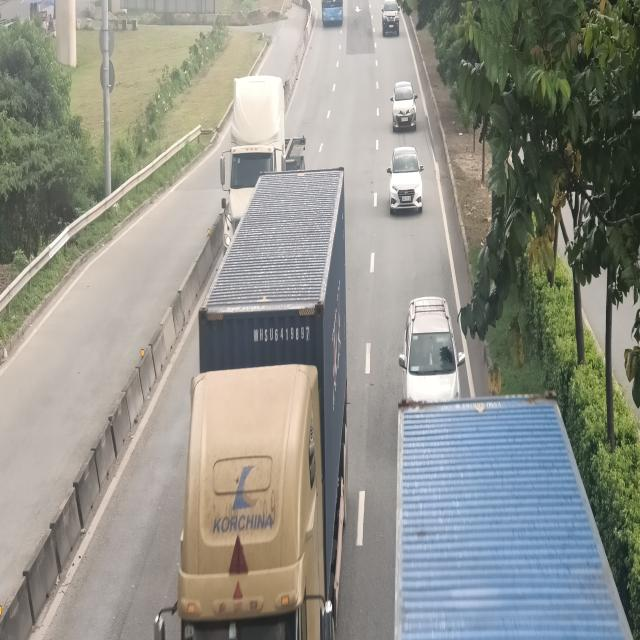car: (398, 294, 464, 407), (388, 146, 423, 210), (391, 80, 417, 125), (382, 0, 401, 37)
coach: (321, 0, 344, 25)
container: (149, 166, 349, 640), (220, 77, 306, 268)
